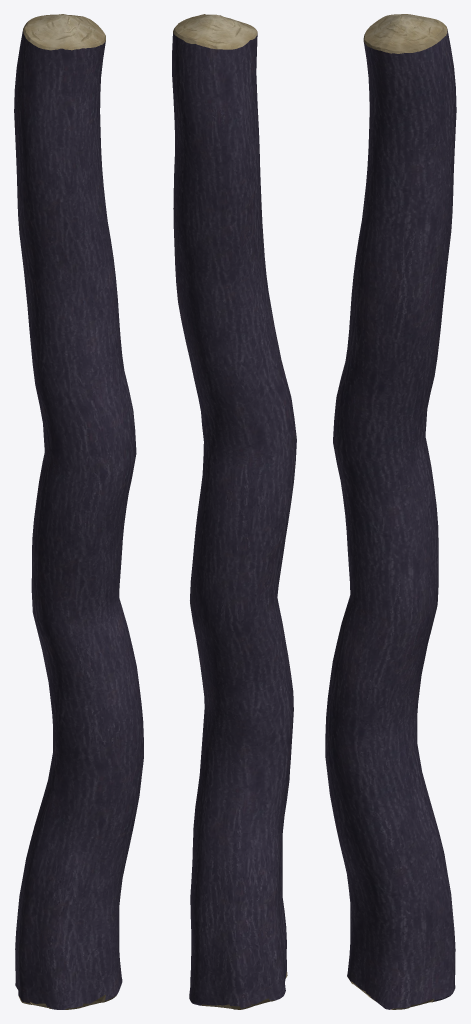
3 renders of one model, left to right at view 1: azimuth 90°, elevation 25°; view 2: azimuth 150°, elevation 25°; view 3: azimuth 270°, elevation 25°, orthographic.
Visible parts, largest first — view 1: SM_FH_Oak_Tree_02_full_LOD0; view 2: SM_FH_Oak_Tree_02_full_LOD0; view 3: SM_FH_Oak_Tree_02_full_LOD0.
Part boxes in pixels (x1,y1,x2,y2): SM_FH_Oak_Tree_02_full_LOD0: (14, 14, 143, 1009); SM_FH_Oak_Tree_02_full_LOD0: (172, 14, 296, 1009); SM_FH_Oak_Tree_02_full_LOD0: (325, 14, 456, 1009).
Size of the model in its own units: 1.22 by 10.81 by 1.3.
1 material, 1 textured.
